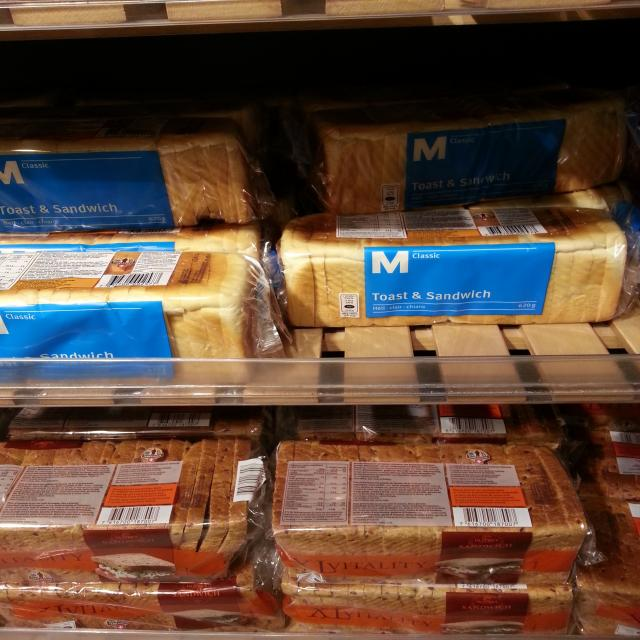Bakery: (267, 438, 592, 586), (278, 212, 628, 324), (308, 100, 640, 214), (0, 246, 263, 386), (0, 438, 252, 581), (0, 120, 250, 230)
